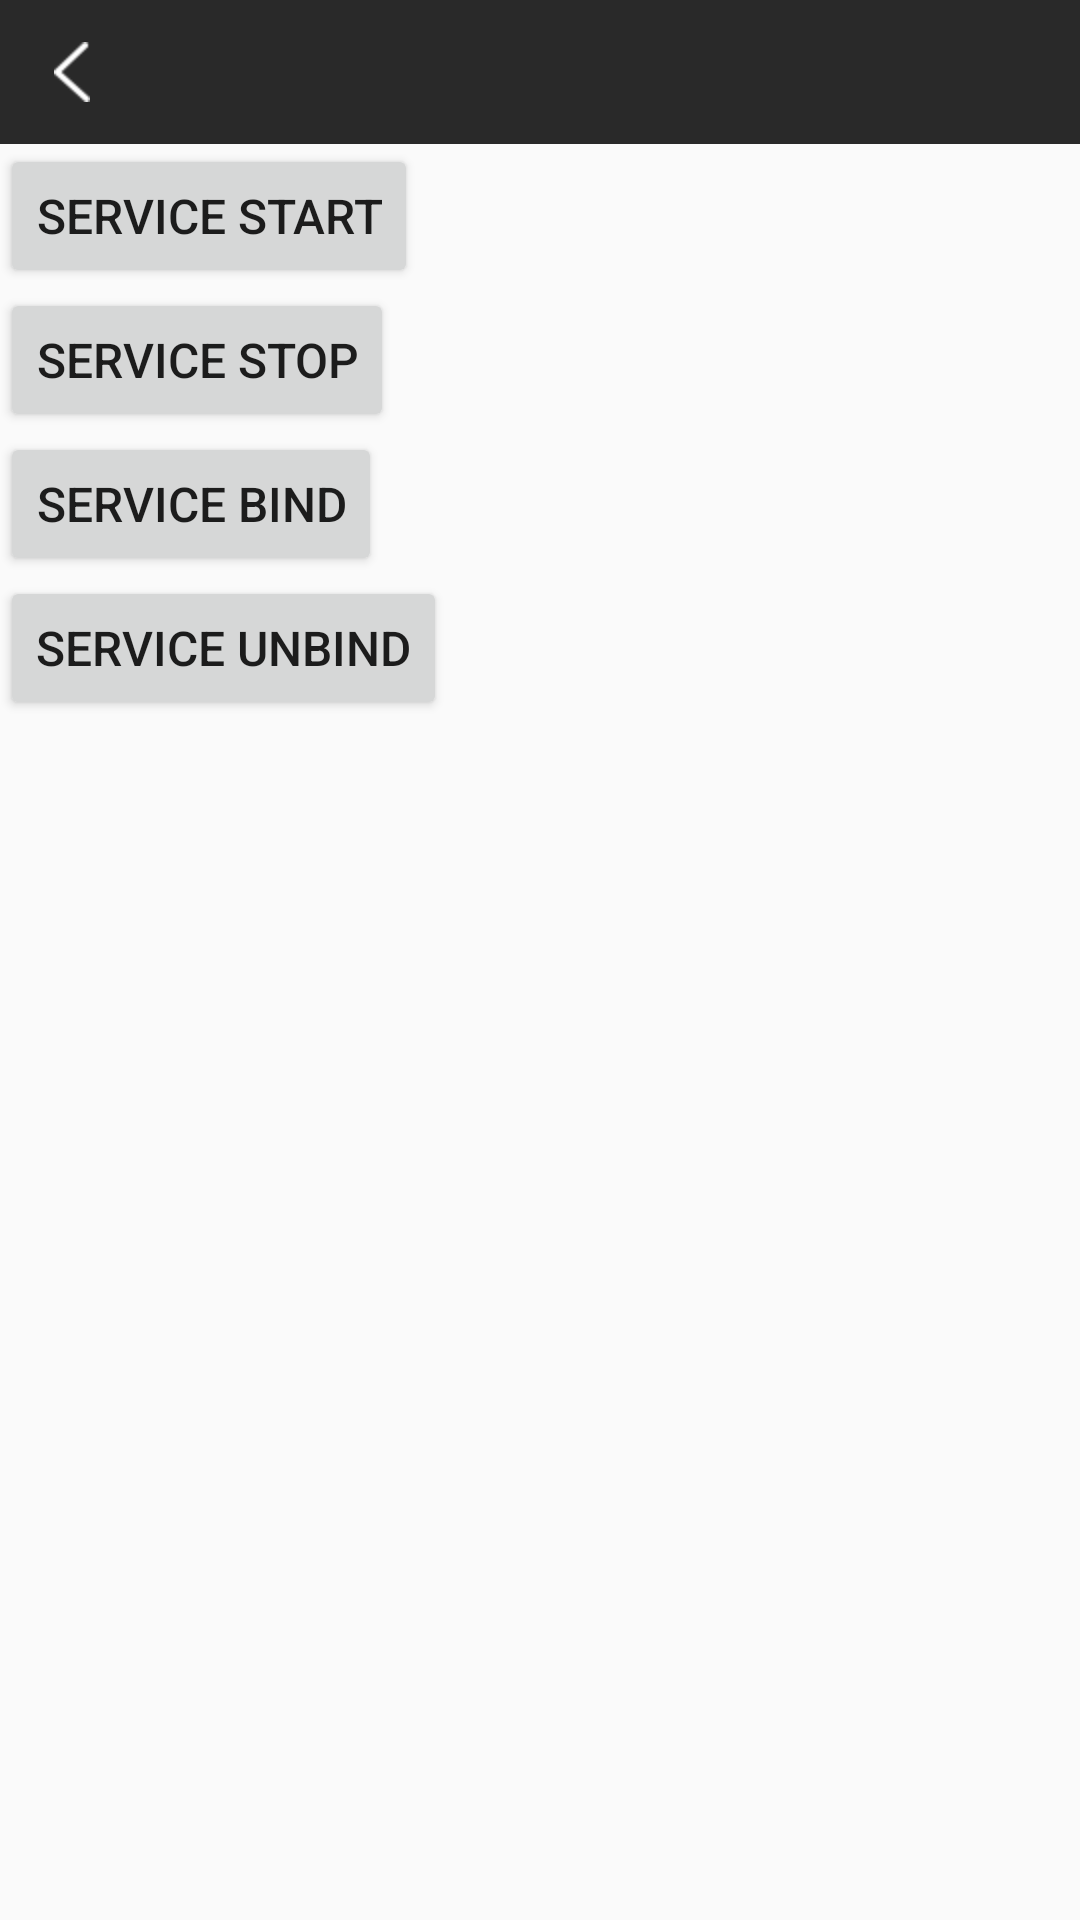

Icon click points for this 1080 × 1920 phone screenshot, format (x=x, y=y):
back titlebar: (x=72, y=72)
